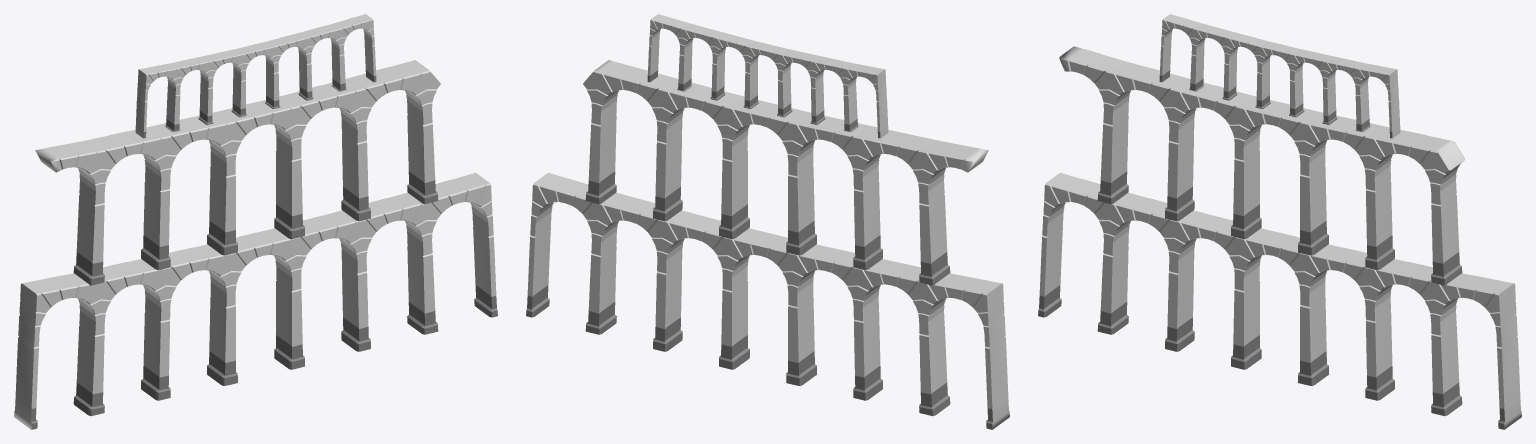
File: ArcBridge.glb
The picture shows the model from 3 angles, left to right: view 1: azimuth 30°, elevation 25°; view 2: azimuth 150°, elevation 25°; view 3: azimuth 330°, elevation 25°; orthographic projection.
Visible parts, largest first — view 1: Arc1, Arc2, Arc3; view 2: Arc1, Arc2, Arc3; view 3: Arc1, Arc2, Arc3.
Boxes of the visible parts, x1,y1,x2,y2 form: Arc1: (14, 172, 497, 429); Arc2: (35, 60, 440, 285); Arc3: (135, 14, 376, 138); Arc1: (526, 172, 1009, 429); Arc2: (583, 60, 988, 285); Arc3: (647, 14, 888, 138); Arc1: (1038, 172, 1521, 429); Arc2: (1059, 46, 1464, 285); Arc3: (1159, 14, 1400, 138).
Bounding box in the file's own units: 93.49 × 62.39 × 6.07.
Materials: 2 (1 with a texture image).
